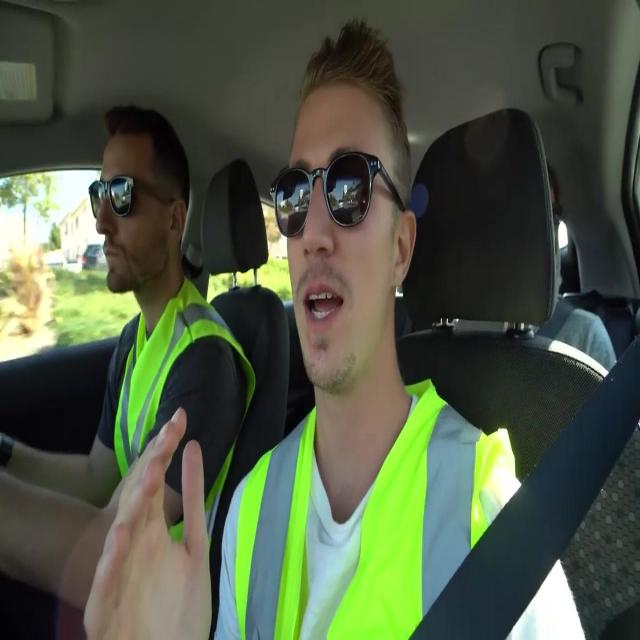Reflective-Jacket: (228, 384, 520, 640), (105, 276, 261, 526)
Safety-Helmet: (268, 18, 426, 228)
